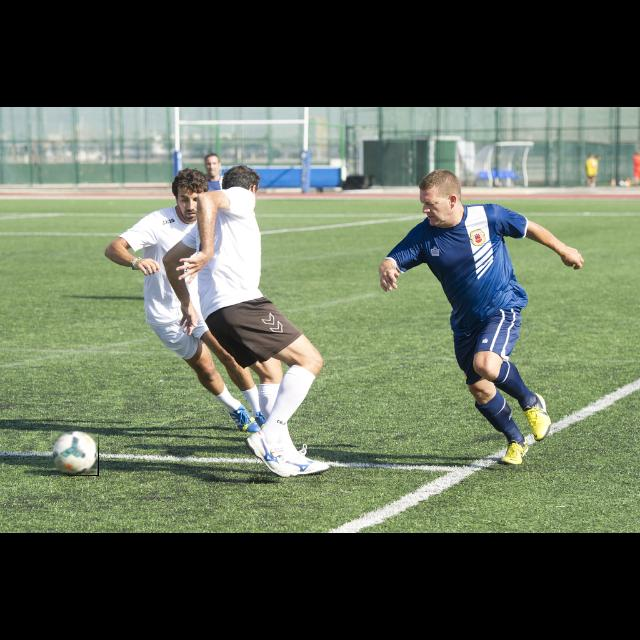Football: (51, 430, 99, 476)
